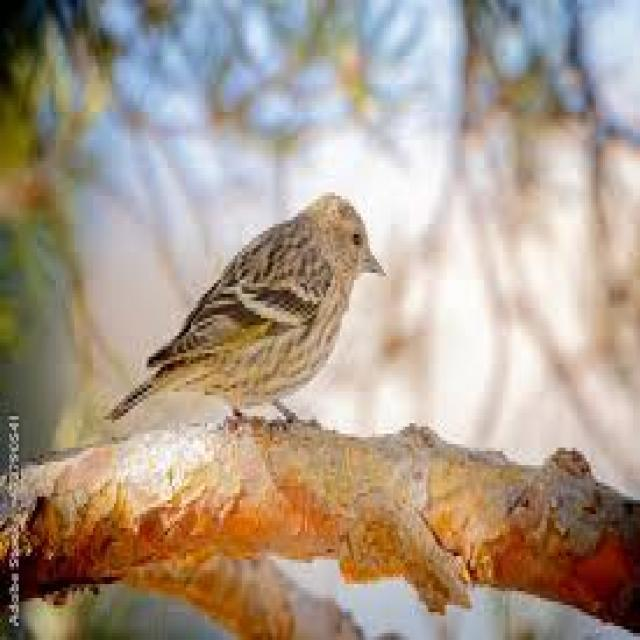bird: (137, 96, 510, 600)
